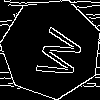W: (26, 23, 85, 83)
